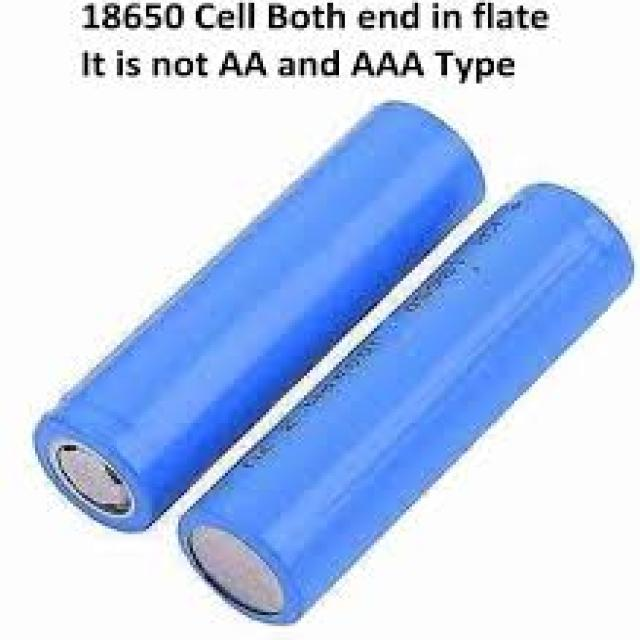Battery: (62, 105, 472, 516), (248, 203, 567, 595)
